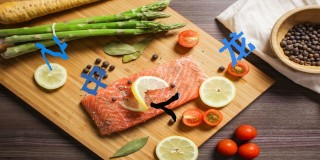中: (80, 66, 108, 95)
之: (36, 35, 70, 69)
人: (150, 91, 179, 121)
龙: (220, 31, 255, 64)
